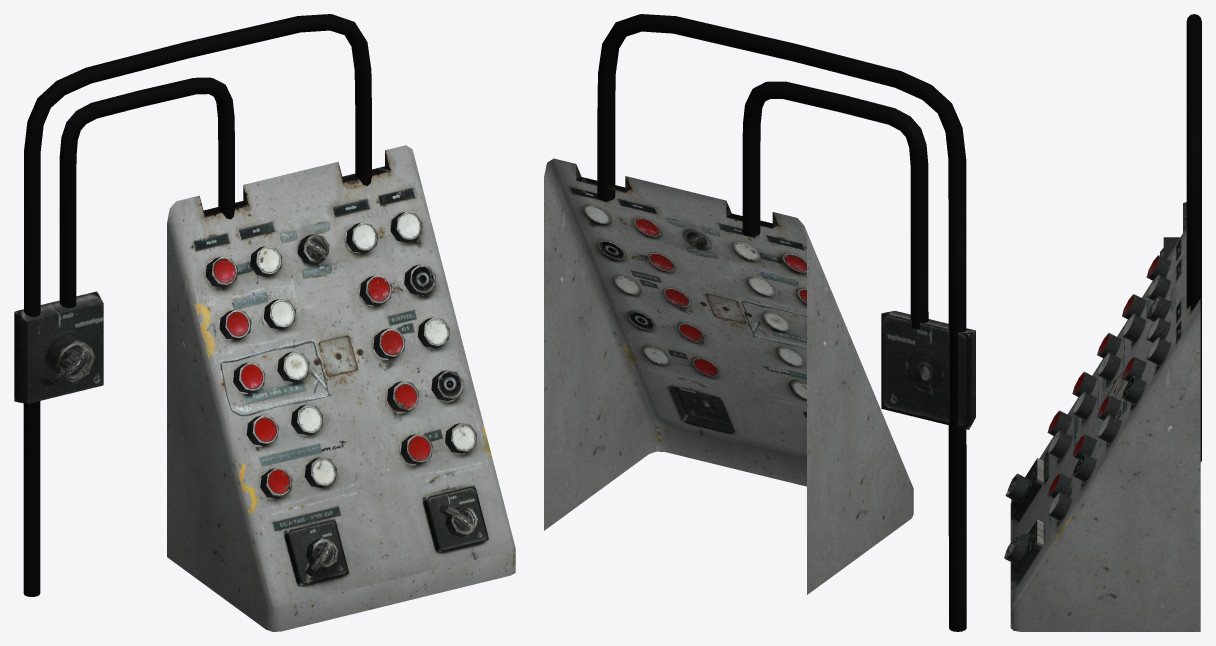
The model's file is Botao3.fbx.
The picture shows the model from 3 angles, left to right: view 1: azimuth 30°, elevation 25°; view 2: azimuth 150°, elevation 25°; view 3: azimuth 270°, elevation 25°; orthographic projection. The views are drawn at different scales.
Visible parts, largest first — view 1: Botao3; view 2: Botao3; view 3: Botao3.
Boxes of the visible parts, left/top/right/bottom form: Botao3: left=14, top=14, right=515, bottom=631; Botao3: left=544, top=14, right=975, bottom=631; Botao3: left=1004, top=14, right=1201, bottom=631.
Size of the model in its own units: 110 by 135 by 52.02.
